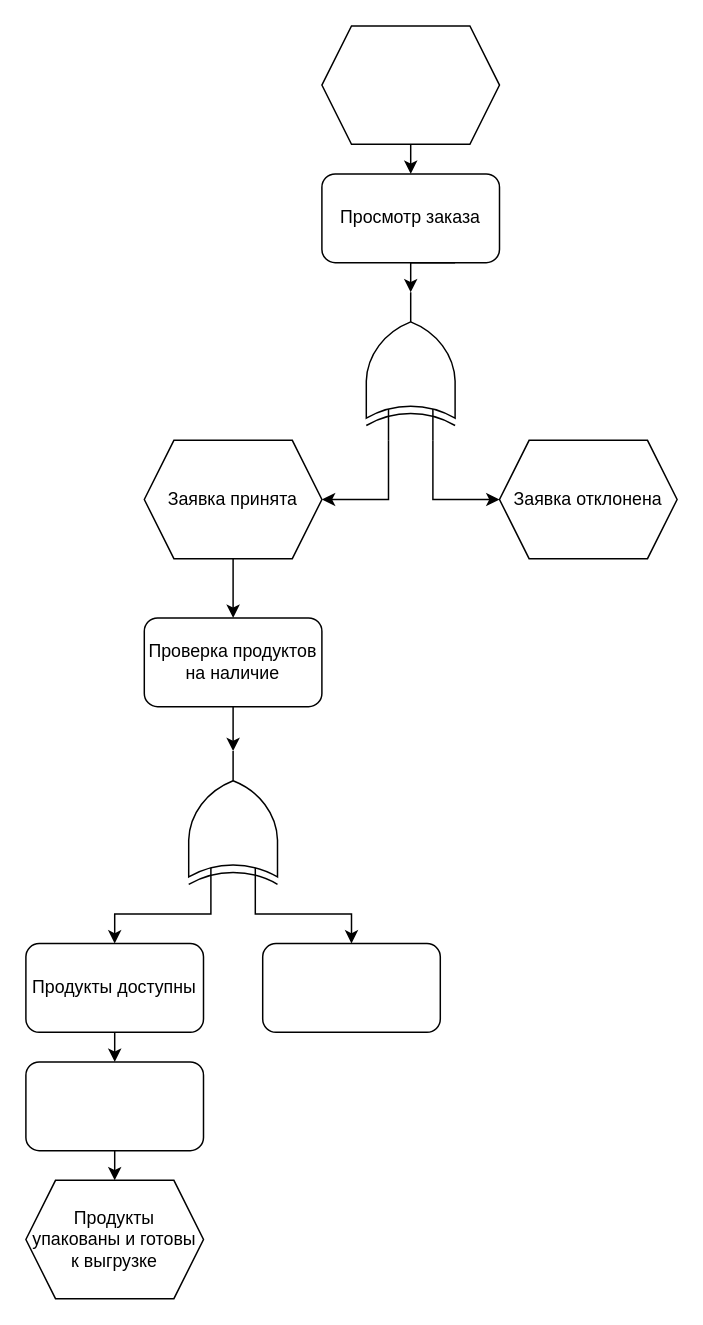
This 703x1325 diagram has some shape labels left out. The centre of each missing label's shape, as x and y in pixels:
"Заявка получена" goes at pixel 410 84.
"Продукты не доступны" goes at pixel 350 987.
"Упаковка продуктов" goes at pixel 114 1105.
